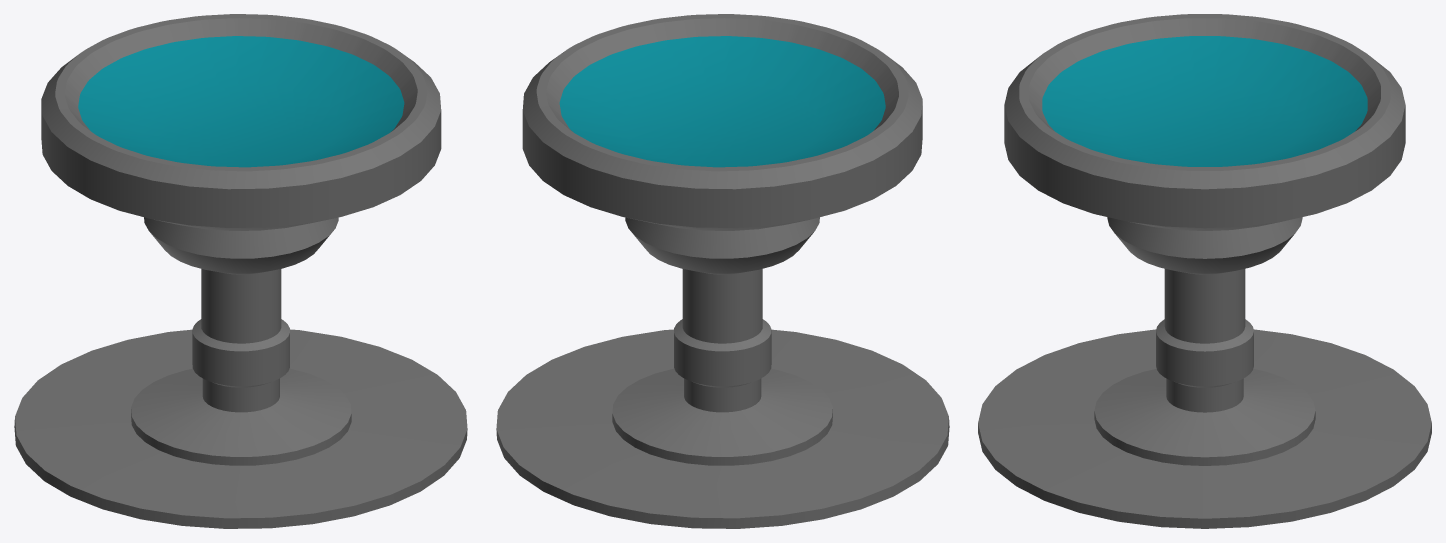
The model's file is Vogeltraenke.fbx.
3 views of the same model, side by side, from view 1: azimuth 30°, elevation 25°; view 2: azimuth 150°, elevation 25°; view 3: azimuth 270°, elevation 25° (orthographic).
Parts seen in each view (by area): view 1: Wasserauffangbecken; view 2: Wasserauffangbecken; view 3: Wasserauffangbecken.
Part boxes in pixels (left/top/right/bottom): Wasserauffangbecken: left=14, top=14, right=467, bottom=528; Wasserauffangbecken: left=496, top=14, right=949, bottom=528; Wasserauffangbecken: left=978, top=14, right=1431, bottom=528.
Size of the model in its own units: 1.32 by 1.09 by 1.32.
